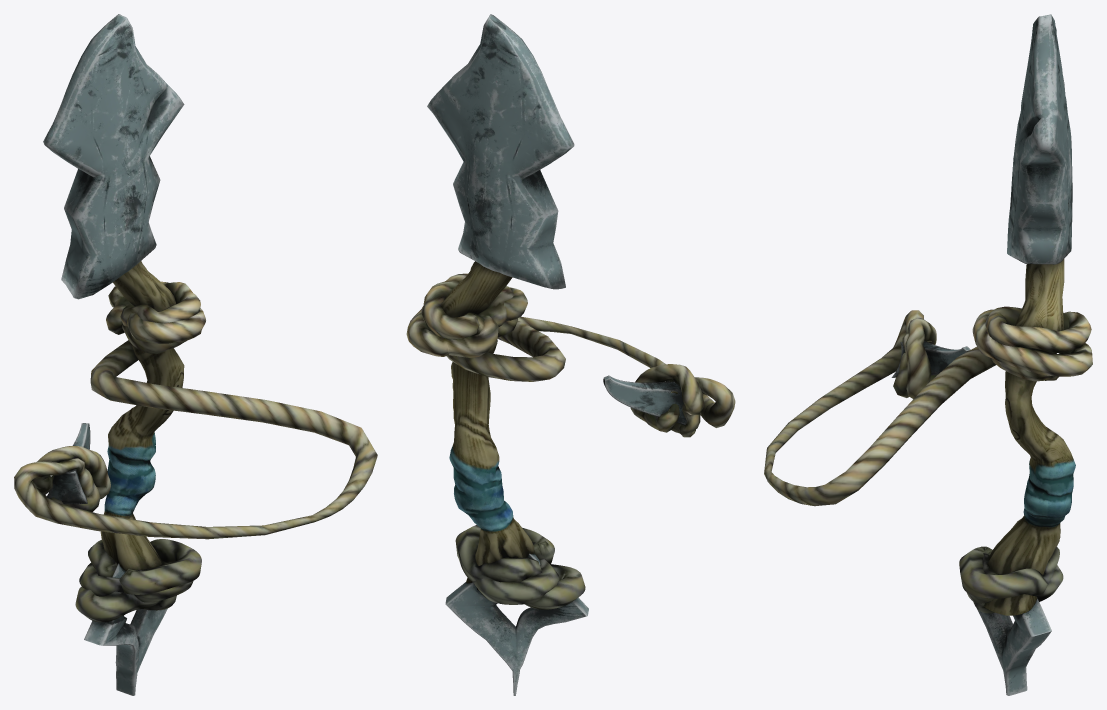
The model's file is ToolsSceneV3.glb.
3 renders of one model, left to right at view 1: azimuth 30°, elevation 25°; view 2: azimuth 150°, elevation 25°; view 3: azimuth 270°, elevation 25°, orthographic. The views are drawn at different scales.
Visible parts, largest first — view 1: HarpoonHeadLP; view 2: HarpoonHeadLP; view 3: HarpoonHeadLP.
Boxes of the visible parts, x1,y1,x2,y2 form: HarpoonHeadLP: [14, 14, 377, 695]; HarpoonHeadLP: [406, 14, 735, 695]; HarpoonHeadLP: [764, 14, 1092, 695].
Bounding box in the file's own units: 0.9756 × 1.93 × 0.8419.
1 material, 1 textured.
